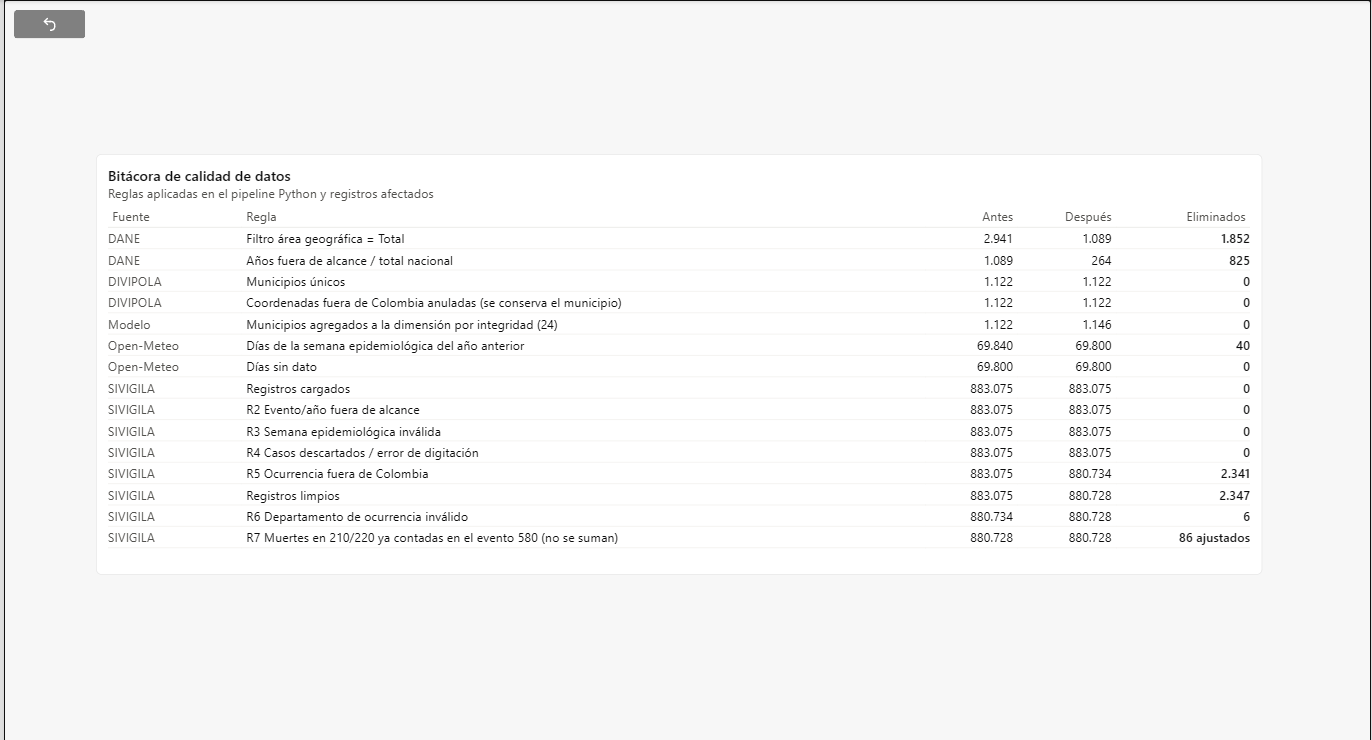

Layout of this report page (visuals, bound fields, positions):
{"tool":"powerbi","page":{"name":"Página 7","canvas":[1920,1080],"ordinal":6},"visuals":[{"type":"htmlContent443BE3AD55E043BF878BED274D3A6855","fields":{"content":["_Medidas.HTML Calidad Datos"]},"box":[129.8,215.9,1638.4,590.9],"z":0},{"type":"actionButton","box":[14.6,14.6,100,40],"z":1}]}

Visuals, with their boxes on the page's 1920x1080 design canvas (x1, y1, x2, y2). These are canvas units, not pixel positions in the 1372x740 screenshot, which may show the page scaled, cropped or inside an application window:
htmlContent443BE3AD55E043BF878BED274D3A6855 - _Medidas.HTML Calidad Datos: <bbox>130, 216, 1768, 807</bbox>
actionButton: <bbox>15, 15, 115, 55</bbox>
